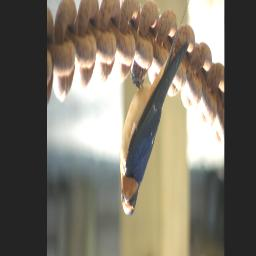Swallow: (119, 0, 199, 217)
